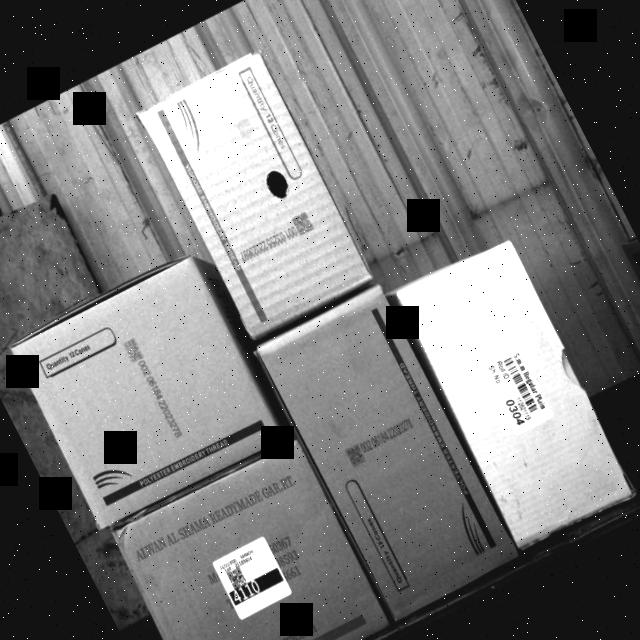box: (259, 285, 524, 623), (3, 246, 298, 542), (392, 235, 638, 555), (142, 54, 378, 346), (113, 439, 399, 640)
